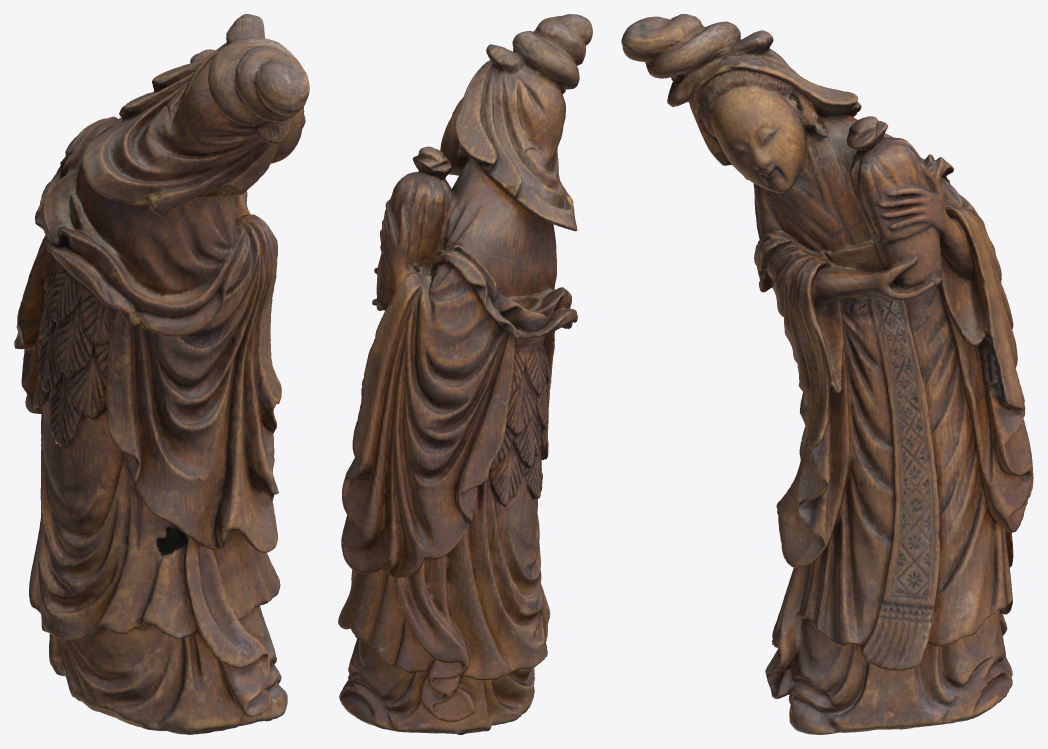
The model's file is chinese_wooden_sculpture.glb.
The picture shows the model from 3 angles, left to right: view 1: azimuth 30°, elevation 25°; view 2: azimuth 150°, elevation 25°; view 3: azimuth 270°, elevation 25°; orthographic projection. The views are drawn at different scales.
Parts seen in each view (by area): view 1: Object_3, Object_2, Object_4; view 2: Object_2, Object_4, Object_3; view 3: Object_3, Object_2, Object_4.
Part boxes in pixels (box(x1,y1,x2,y2)): Object_3: box(76, 14, 309, 614); Object_2: box(14, 116, 302, 734); Object_4: box(20, 90, 285, 734); Object_2: box(338, 160, 575, 734); Object_4: box(338, 65, 577, 734); Object_3: box(341, 14, 592, 553); Object_3: box(621, 14, 1030, 705); Object_2: box(718, 116, 1033, 734); Object_4: box(756, 46, 1032, 732).
Size of the model in its own units: 0.0741 by 0.2305 by 0.1269.
1 material, 1 textured.
